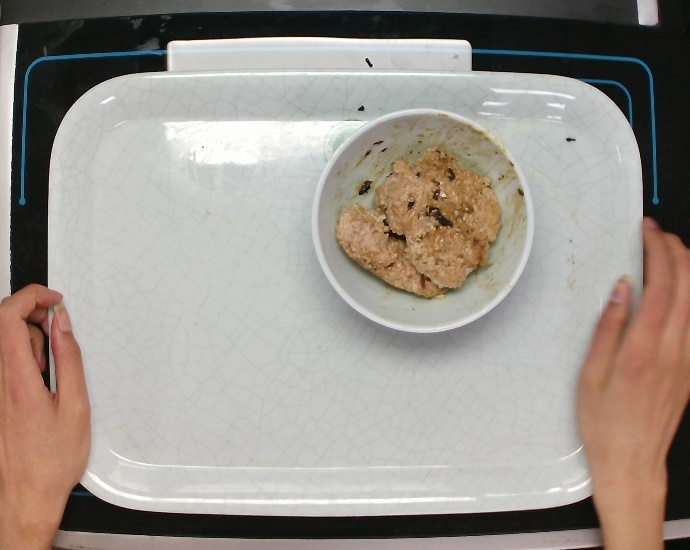JYsf-Fan_Wan: (309, 106, 536, 336)
